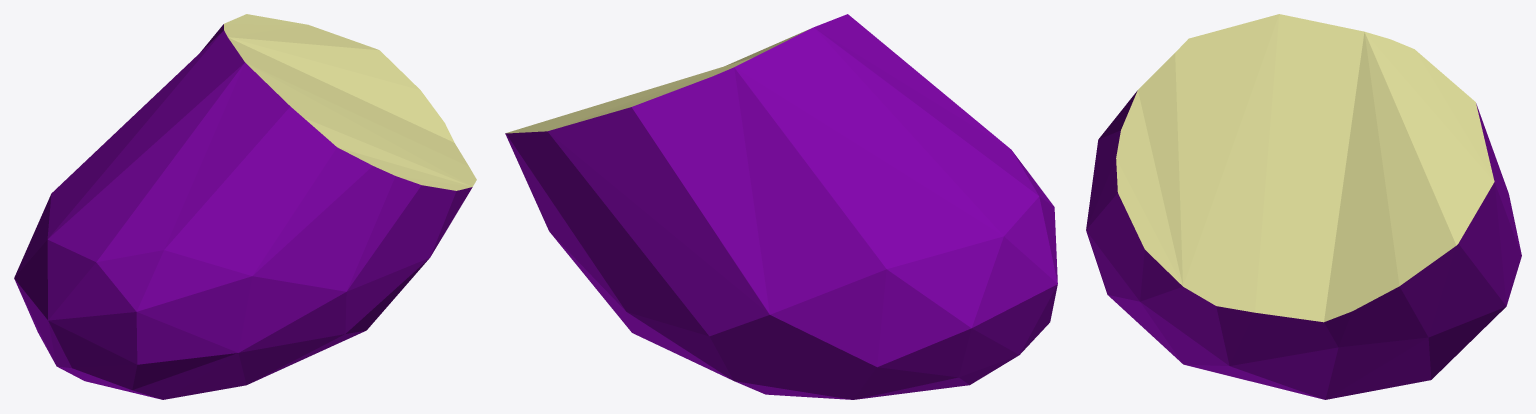
Rendered from Eggplant_2.fbx.
The picture shows the model from 3 angles, left to right: view 1: azimuth 30°, elevation 25°; view 2: azimuth 150°, elevation 25°; view 3: azimuth 270°, elevation 25°; orthographic projection. The views are drawn at different scales.
Parts seen in each view (by area): view 1: Cylinder.013; view 2: Cylinder.013; view 3: Cylinder.013.
Boxes of the visible parts, bbox=[...] form: Cylinder.013: bbox=[14, 14, 476, 399]; Cylinder.013: bbox=[505, 14, 1057, 399]; Cylinder.013: bbox=[1086, 14, 1521, 399].
Size of the model in its own units: 242 by 216 by 334.
